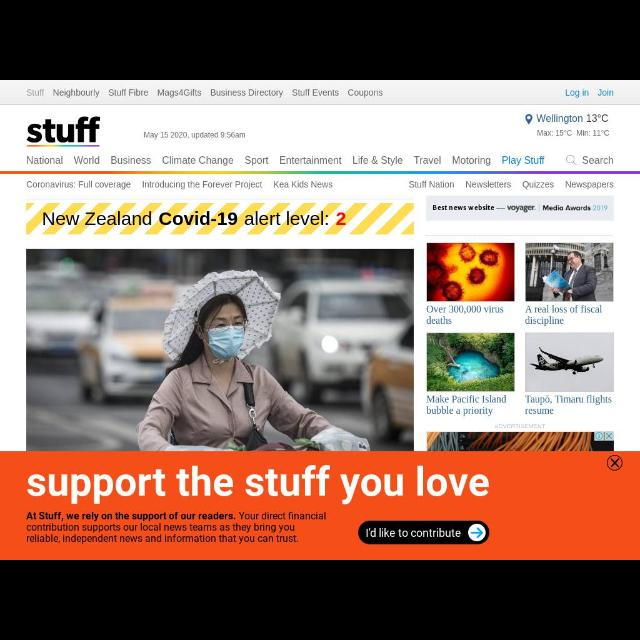icon: (467, 525, 487, 541), (564, 154, 580, 168), (606, 458, 622, 468)
iframe: (3, 453, 639, 557), (428, 432, 614, 450)
image: (25, 250, 411, 446), (428, 243, 514, 303), (526, 241, 612, 301), (428, 332, 516, 388), (524, 335, 614, 389), (24, 119, 104, 148), (525, 115, 535, 123)
multitab: (1, 154, 639, 173)
text: (24, 472, 488, 501), (24, 509, 328, 545), (41, 208, 352, 228), (524, 396, 616, 420), (426, 394, 508, 418), (523, 305, 605, 327), (424, 306, 506, 326), (364, 526, 466, 540), (24, 180, 134, 192), (145, 180, 263, 190), (537, 128, 611, 140), (142, 131, 248, 139), (500, 153, 546, 170), (434, 202, 494, 215), (538, 114, 608, 125), (208, 90, 282, 100), (272, 180, 332, 192), (352, 154, 402, 168), (292, 88, 340, 102), (54, 85, 100, 98), (565, 180, 613, 192), (452, 154, 492, 168), (465, 179, 511, 191), (278, 156, 344, 164), (544, 204, 608, 212), (164, 158, 236, 165), (406, 182, 454, 192), (156, 88, 200, 98), (523, 180, 557, 192), (347, 88, 383, 99), (582, 154, 614, 166), (507, 205, 535, 218), (412, 157, 444, 167), (26, 156, 64, 164), (112, 156, 150, 164), (565, 88, 591, 99), (109, 88, 149, 95), (72, 155, 100, 165), (244, 157, 270, 167), (26, 87, 44, 97), (598, 88, 612, 99)
textbutton: (358, 518, 489, 548)
toolbar: (1, 82, 640, 105)
